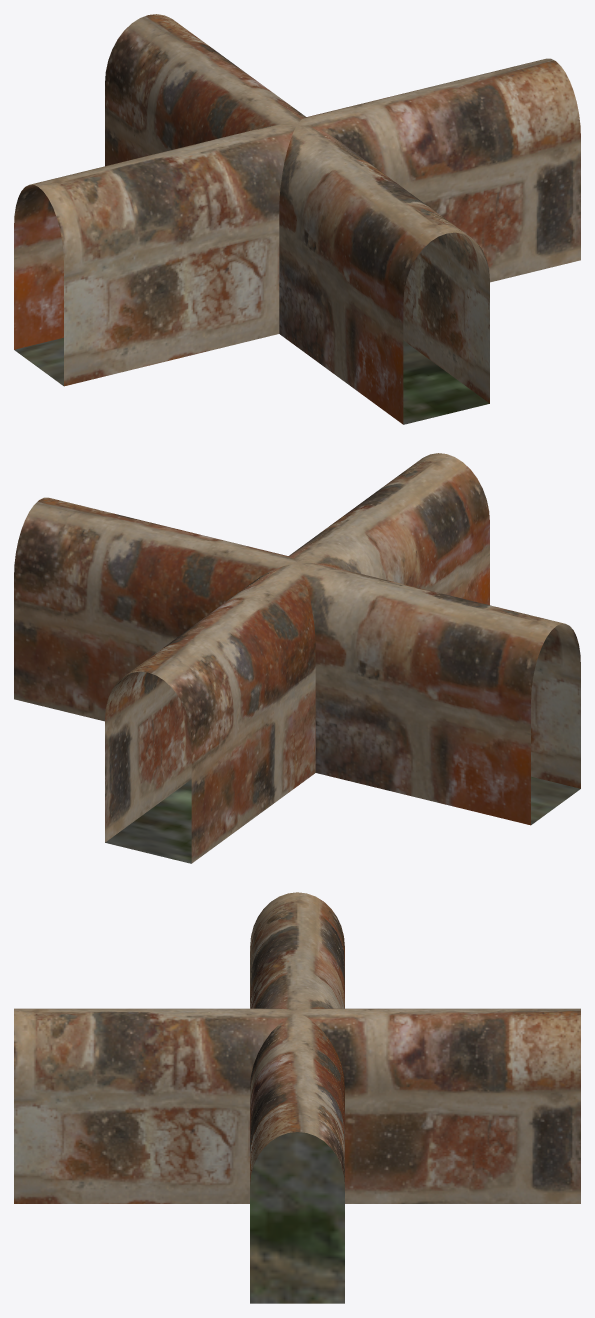
The model's file is tunnel intersection cross.fbx.
3 renders of one model, top to bottom at view 1: azimuth 30°, elevation 25°; view 2: azimuth 150°, elevation 25°; view 3: azimuth 270°, elevation 25°, orthographic. The views are drawn at different scales.
Visible parts, largest first — view 1: tunnel intersection 6m cross, tunnel floor intersection 6m cross; view 2: tunnel intersection 6m cross, tunnel floor intersection 6m cross; view 3: tunnel intersection 6m cross, tunnel floor intersection 6m cross.
Part boxes in pixels (x1,y1,x2,y2): tunnel intersection 6m cross: (14,14,580,424); tunnel floor intersection 6m cross: (14,337,489,424); tunnel intersection 6m cross: (14,453,580,863); tunnel floor intersection 6m cross: (105,776,580,863); tunnel intersection 6m cross: (14,892,580,1203); tunnel floor intersection 6m cross: (250,1132,344,1303).
Size of the model in its own units: 600 by 600 by 200.
